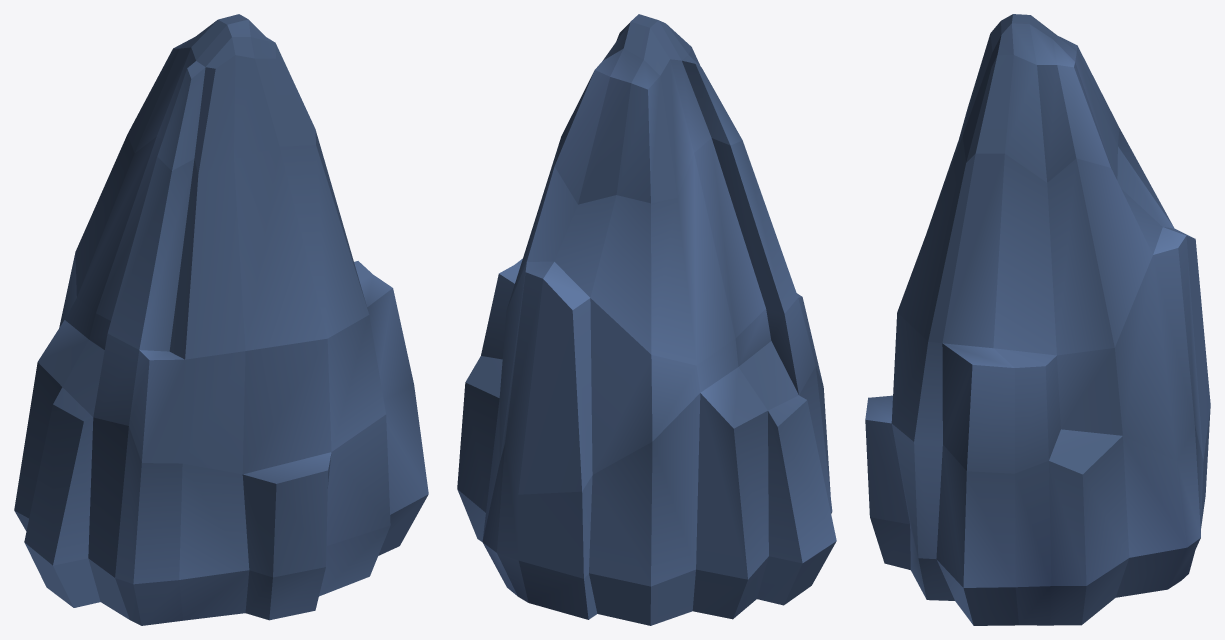
File: Iceberg2.glb
3 renders of one model, left to right at view 1: azimuth 30°, elevation 25°; view 2: azimuth 150°, elevation 25°; view 3: azimuth 270°, elevation 25°, orthographic. The views are drawn at different scales.
Parts seen in each view (by area): view 1: Grid; view 2: Grid; view 3: Grid.
Part boxes in pixels (box(x1,y1,x2,y2)): Grid: box(14, 14, 428, 625); Grid: box(457, 14, 836, 625); Grid: box(865, 14, 1210, 625).
Size of the model in its own units: 2.9 by 4.26 by 2.47.
